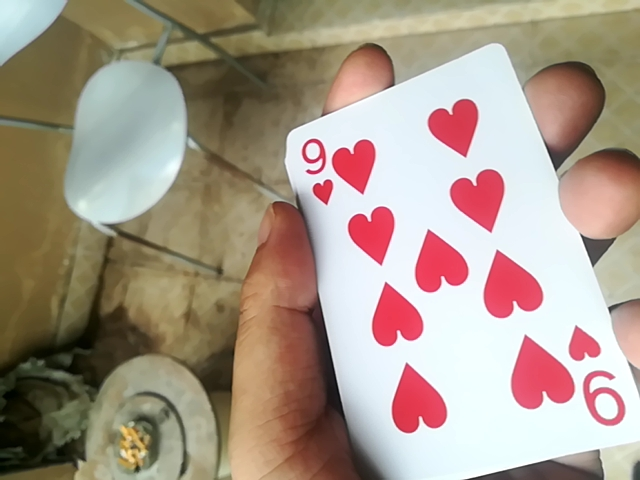hx 9: (295, 38, 638, 480)
